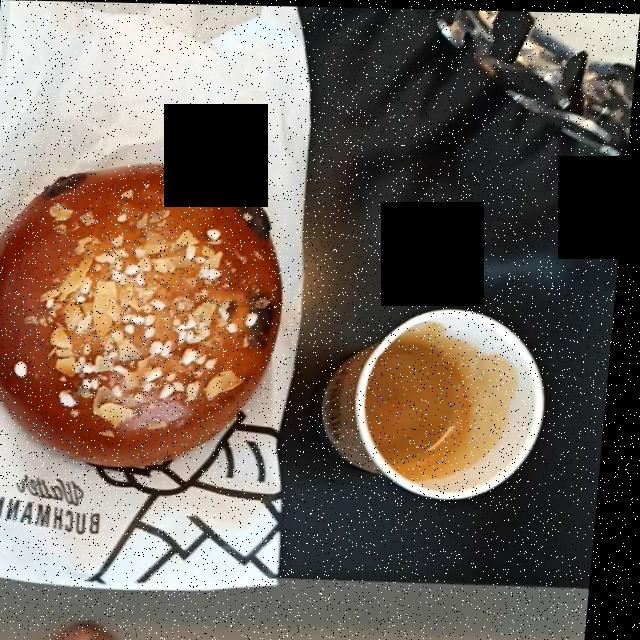brioche: (0, 166, 279, 452)
espresso-with-caffeine: (377, 335, 484, 473)
